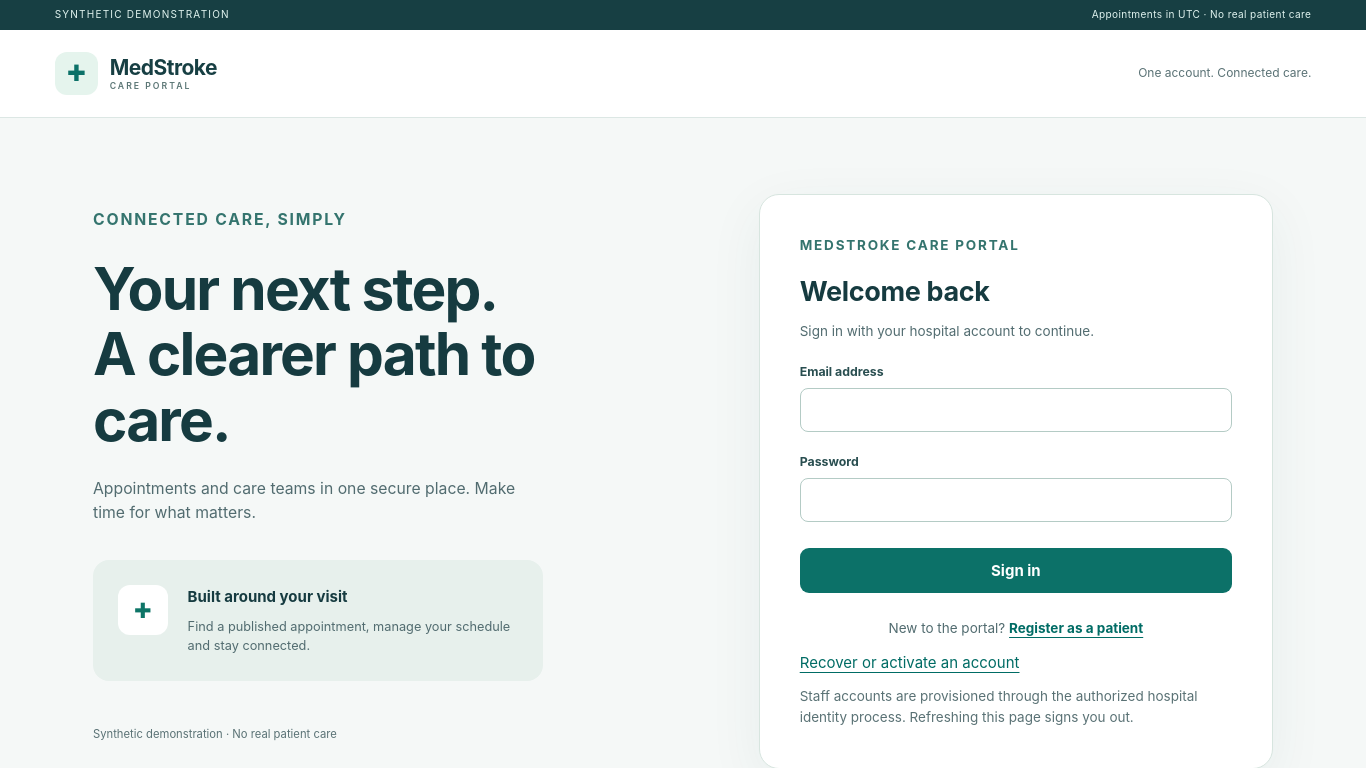
Test case: doctor-only pages are forbidden without exposing schedule controls
Later steps or results of the test are not shown.
Type "synthetic@example.test" into the field labelled "Email address".
click(1016, 410); type("synthetic@example.test")  # box [800,388,1232,432]
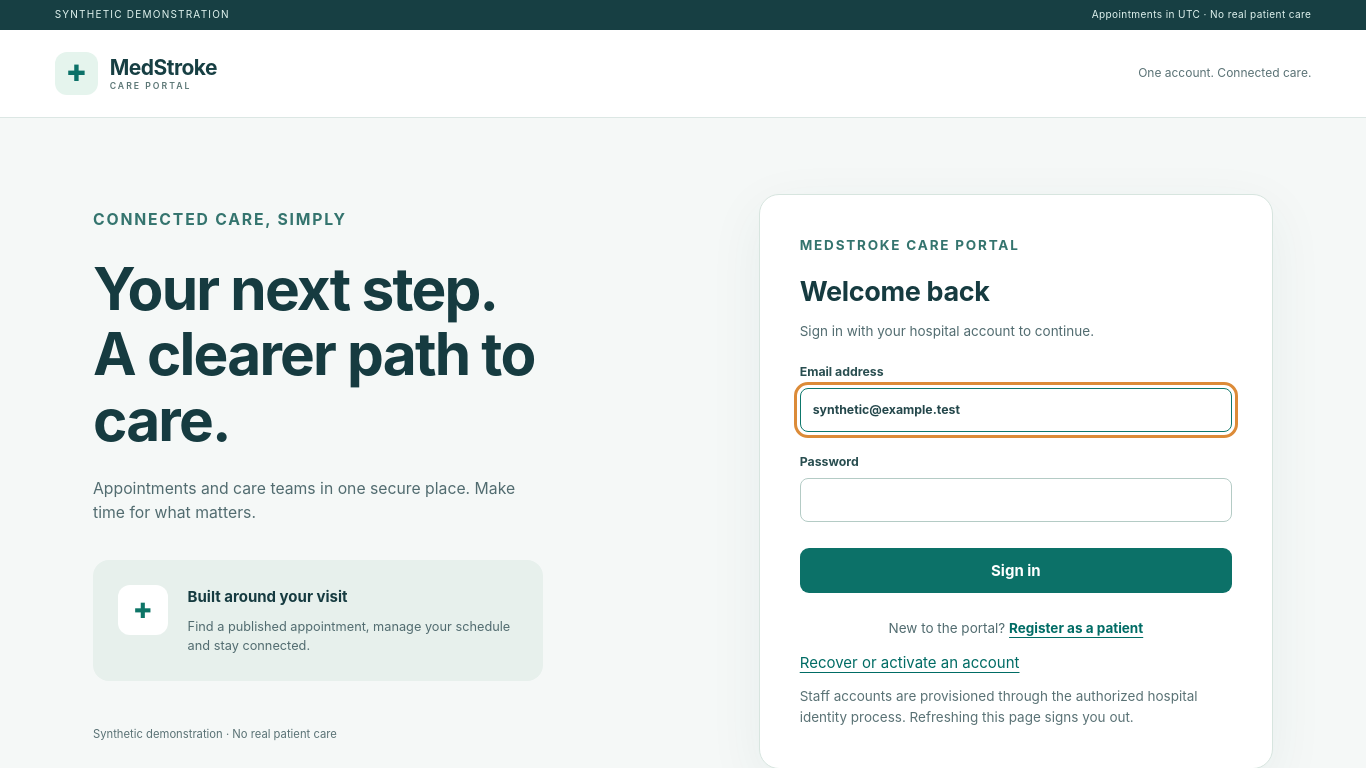
Type "Synthetic-password" into the password field labelled "Password".
click(1016, 500); type("Synthetic-password")  # box [800,478,1232,522]
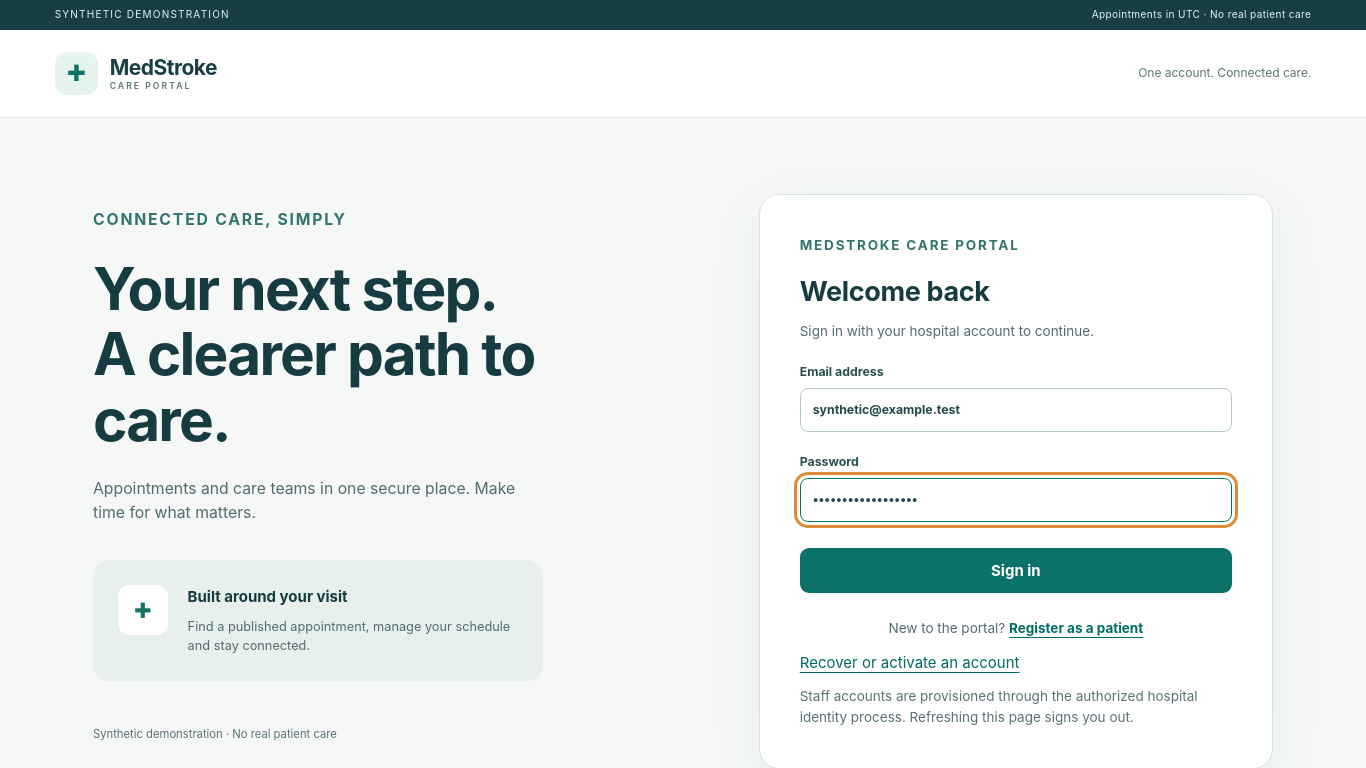
Click the button "Sign in".
click(1016, 571)  # box [800,548,1232,593]
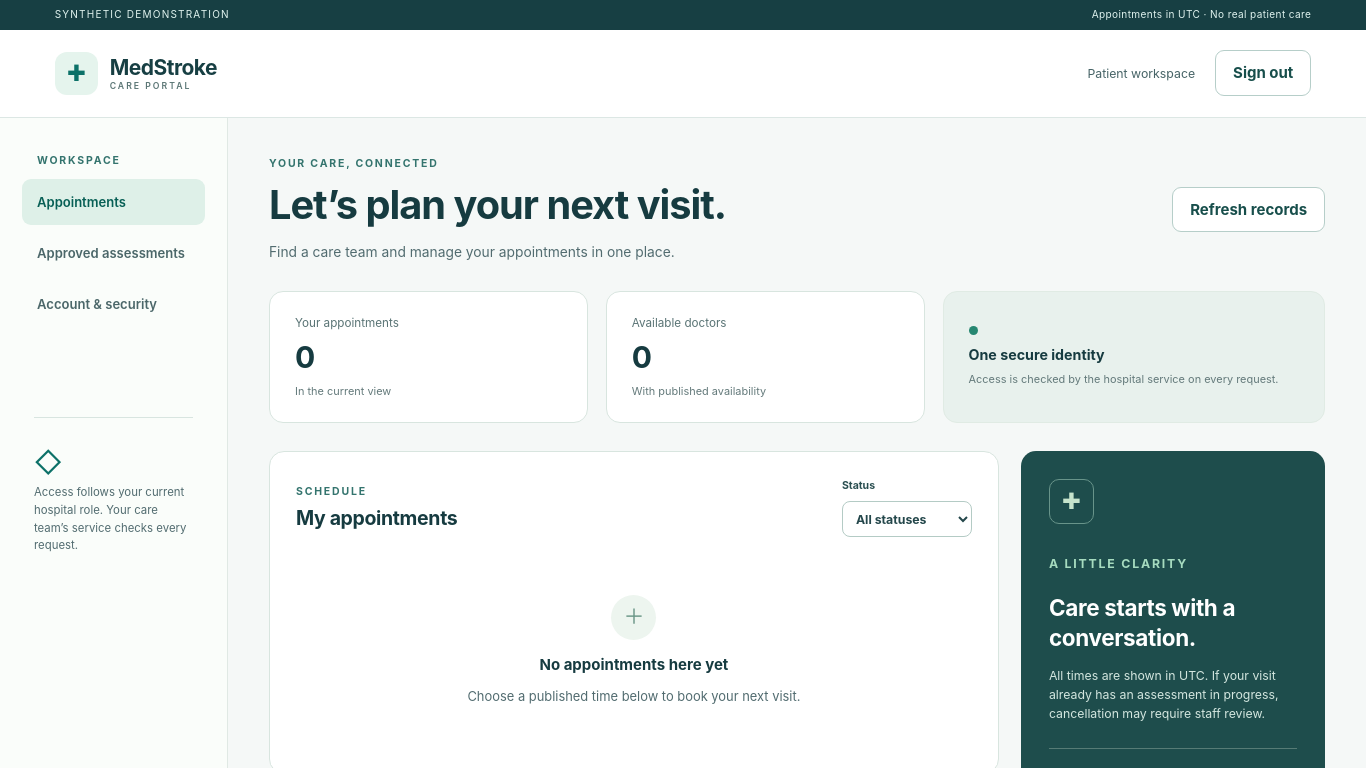
Expected: the heading "No appointments here yet" is shown, [540,655,728,674]
